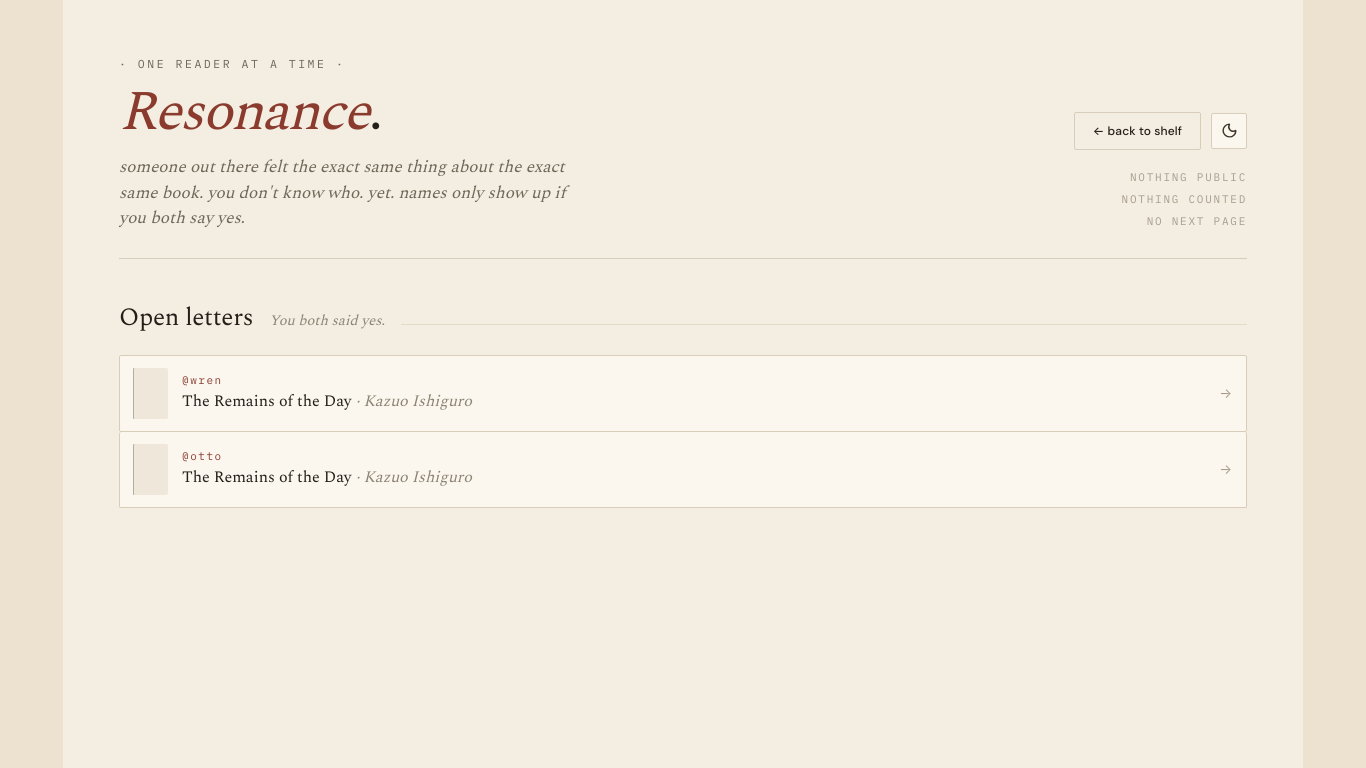
ResonancePage — the open-thread list stays visible › shows every open thread beside the one you're reading, and switches without closing
Click the button with aria-label "open the letters".
click(151, 393)  # box [119,354,1247,432]
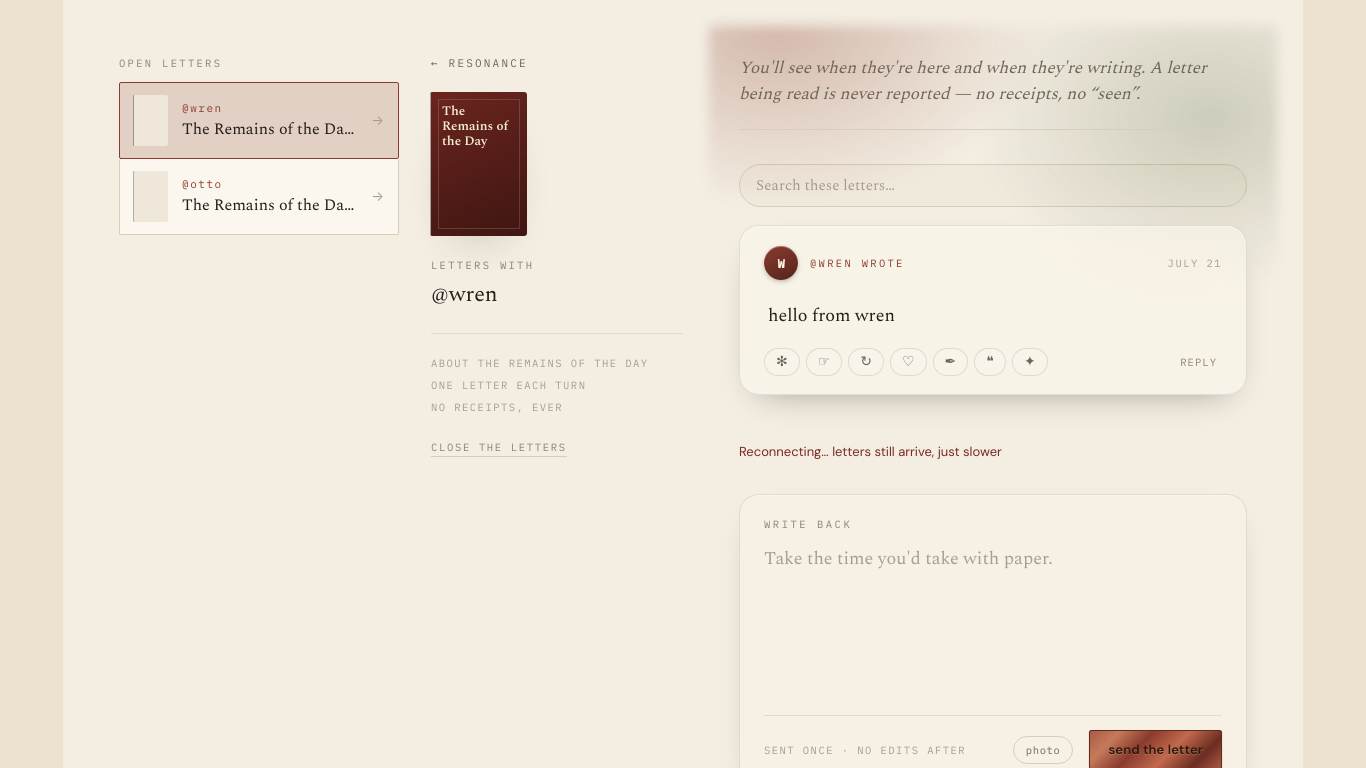
Expected: the button with aria-label "open the letters with @wren" is shown, [119,82,399,159]
Result: the text "hello from wren" is shown at [768,302,895,329]
Click the button with aria-label "open the letters with @otto".
click(259, 197)  # box [119,159,399,235]
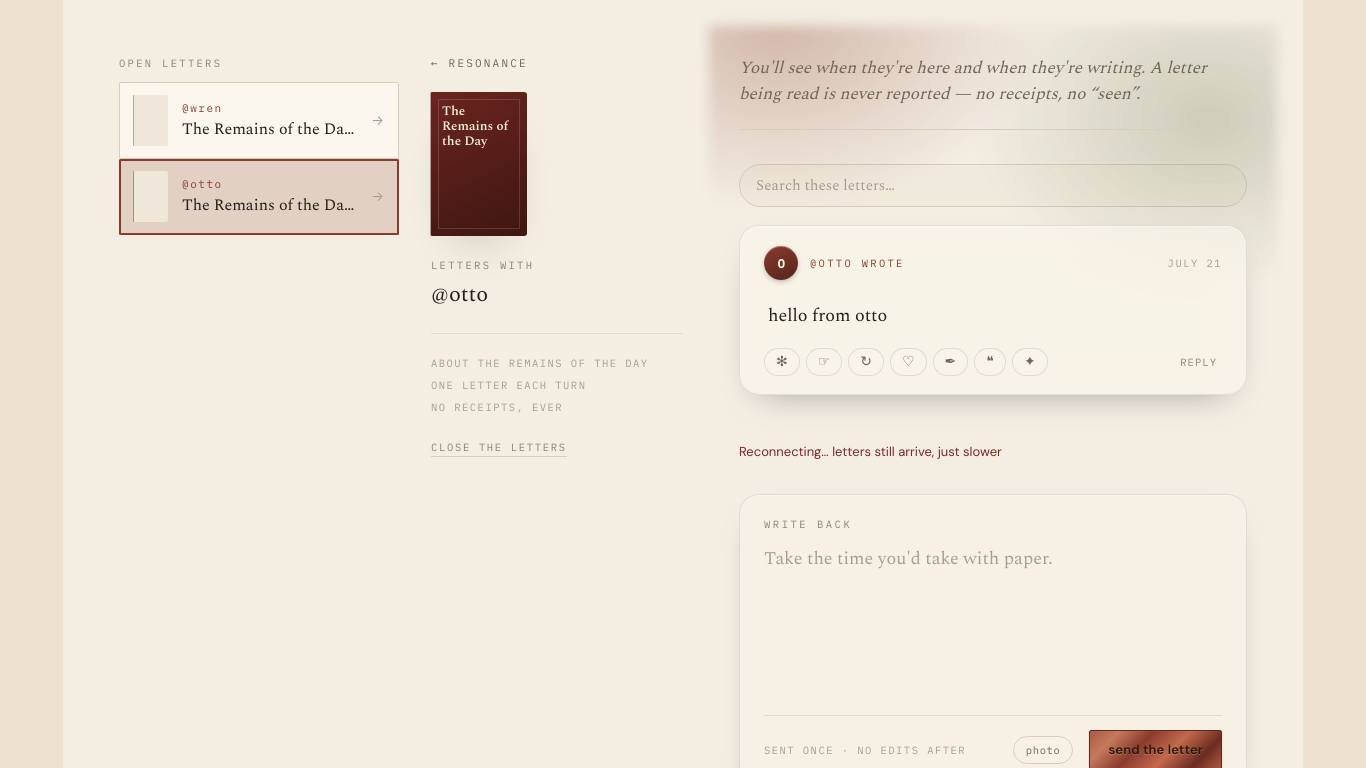
Result: the text "hello from otto" is shown at [768,302,887,329]
